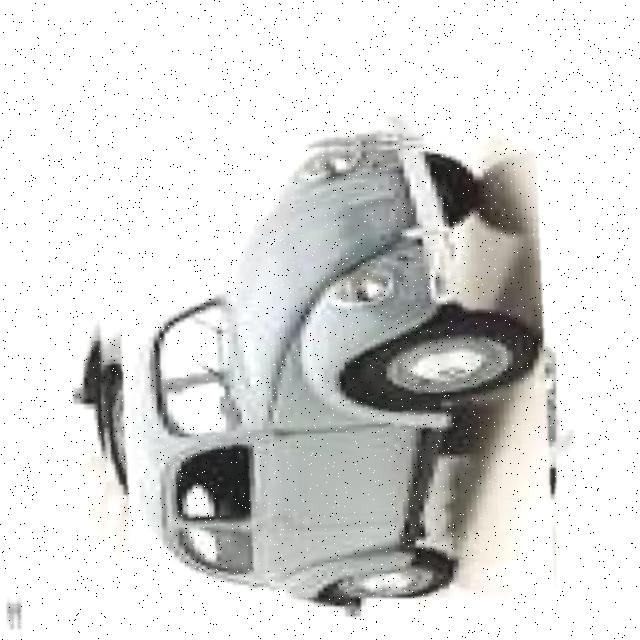car: (93, 136, 557, 599)
